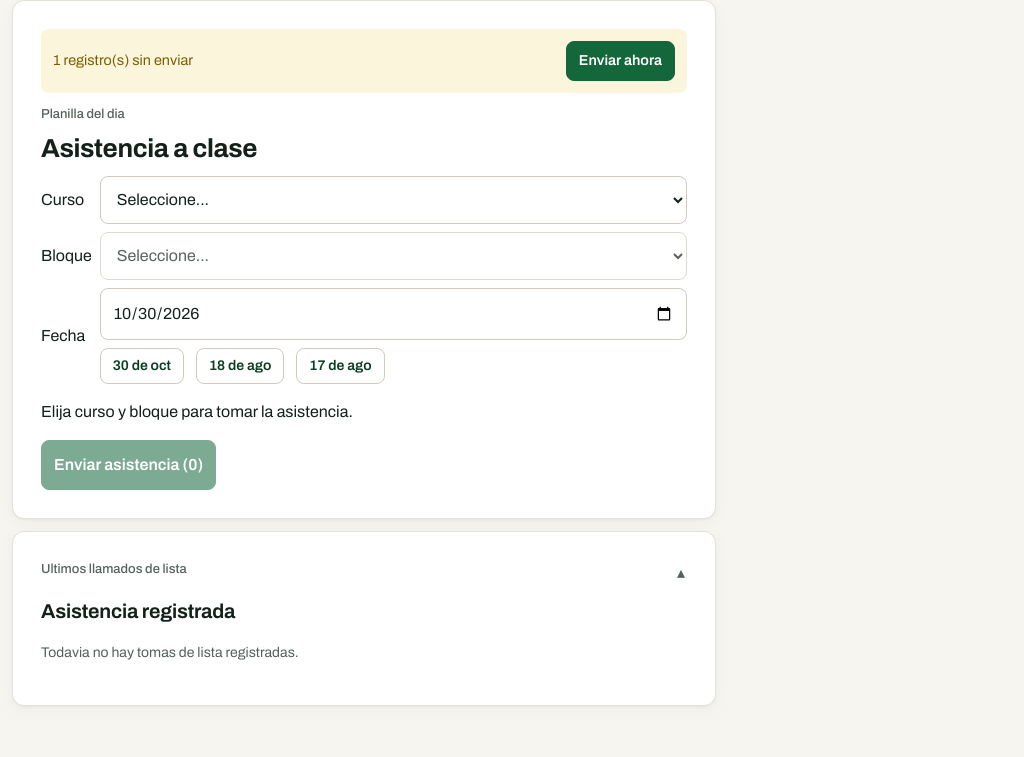
Test case: TomarAsistencia › lo que hay sin enviar en el telefono gana sobre lo guardado
The image size is (1024, 757).
Expected: the dropdown labelled "Curso" is shown, [100, 176, 687, 224]
Type "2026-08-17" into the date field labelled "Fecha" at [393, 314], box [100, 288, 687, 340]
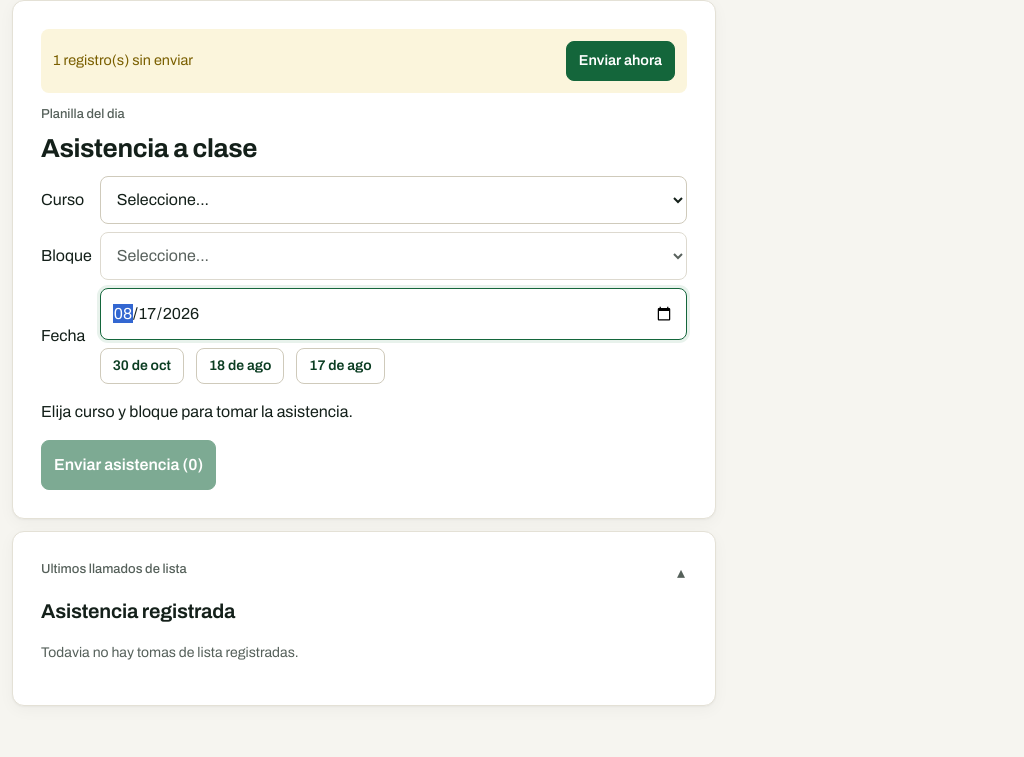
Select "601" in the dropdown labelled "Curso" at [393, 200], box [100, 176, 687, 224]
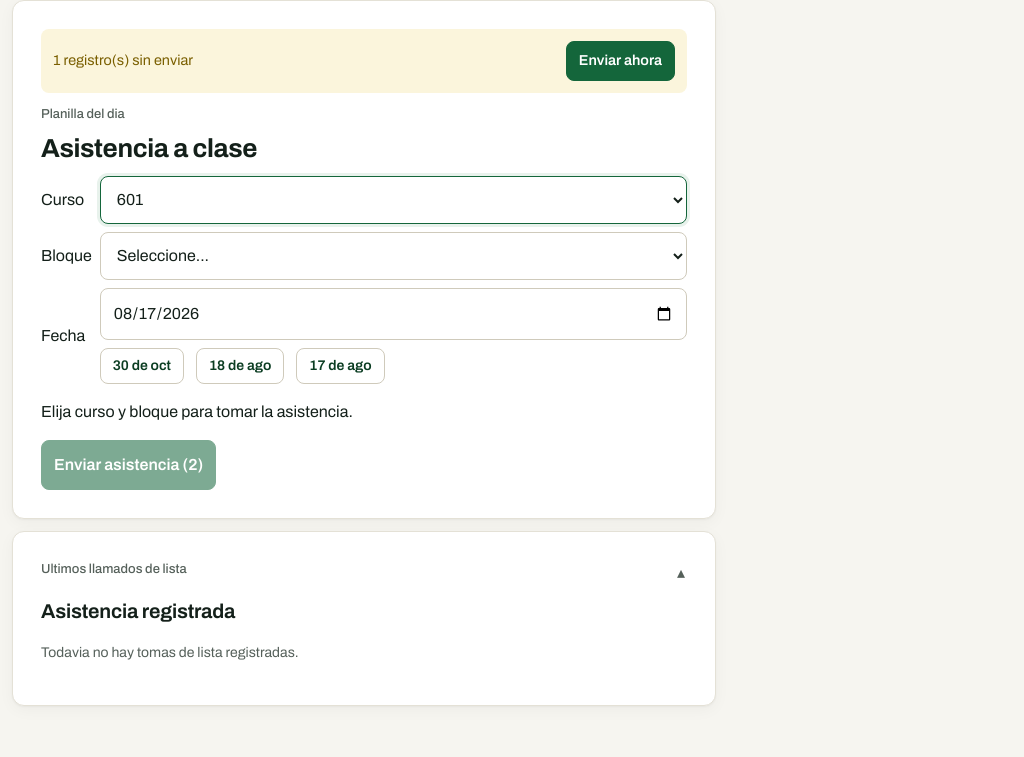
Now the dropdown labelled "Bloque" is enabled
Select "4. Ciencias (09:00) · Dia 1" in the dropdown labelled "Bloque" at [393, 256], box [100, 232, 687, 280]
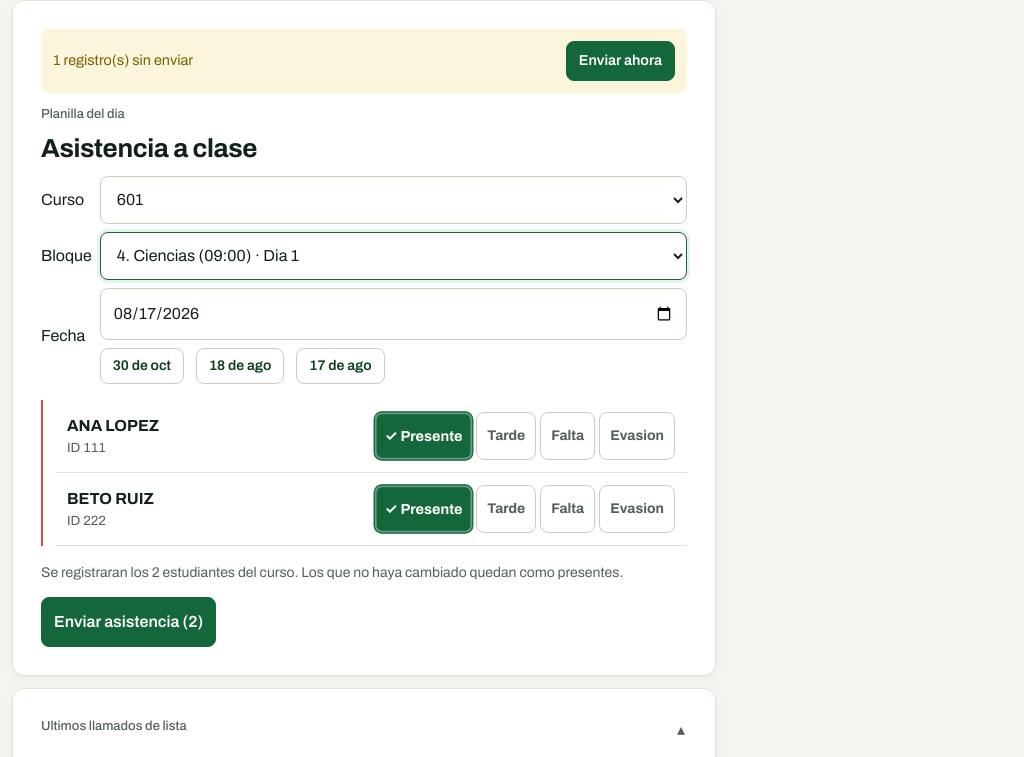
Now the text "ANA LOPEZ" is shown, box [67, 416, 159, 434]
